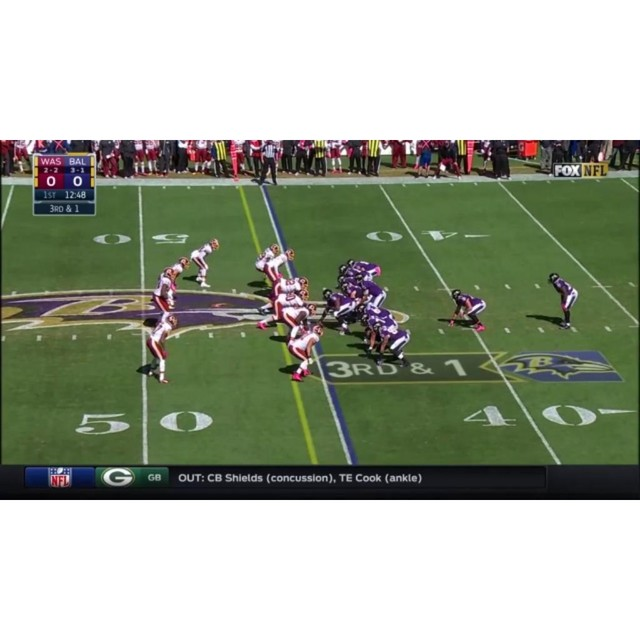american-football-player: (145, 313, 178, 382), (286, 324, 325, 382), (256, 289, 308, 330), (548, 272, 579, 331), (319, 286, 357, 334), (143, 268, 176, 323), (375, 321, 412, 369), (448, 288, 487, 331), (191, 238, 219, 288), (164, 258, 191, 305), (279, 304, 314, 340), (265, 248, 295, 285), (358, 275, 388, 310), (254, 243, 280, 280), (344, 258, 378, 281)
referee: (257, 140, 279, 187)
